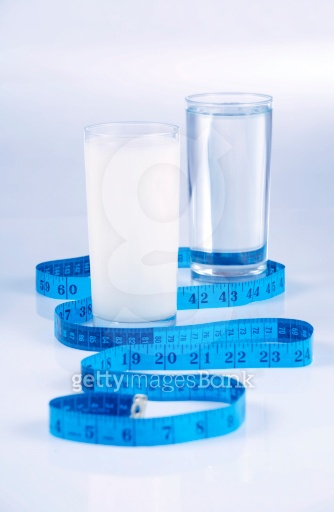glass of milk: (78, 118, 187, 333)
glass of water: (182, 83, 274, 280)
